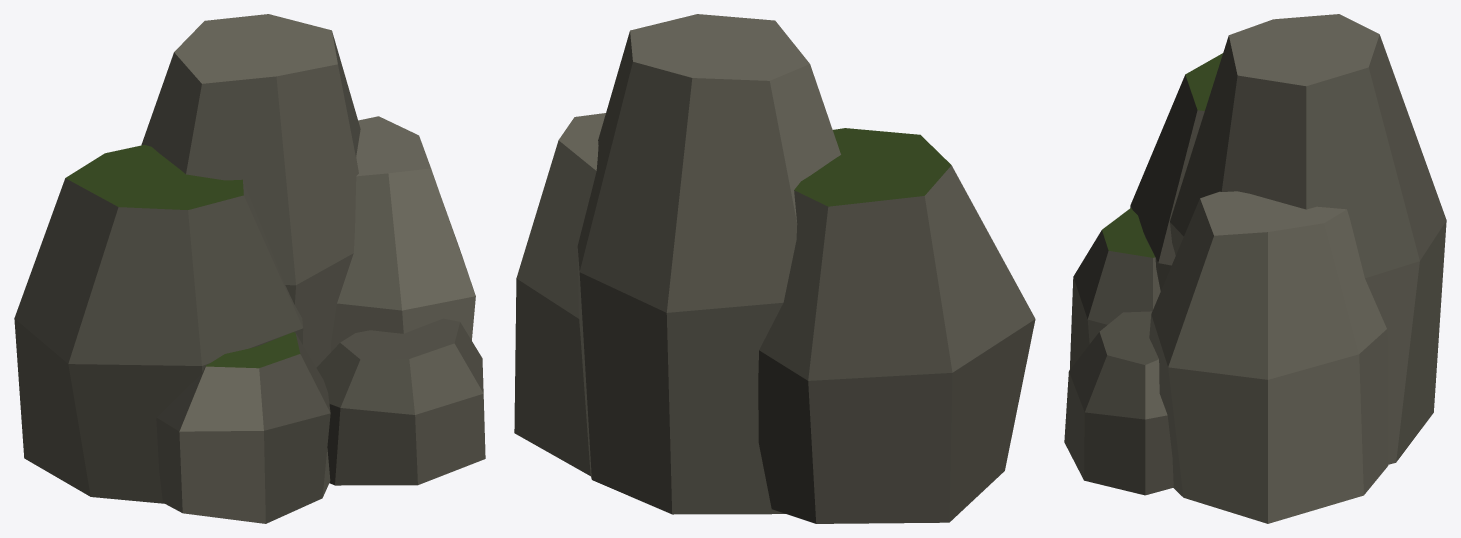
File: waystone-outcrop.glb
The picture shows the model from 3 angles, left to right: view 1: azimuth 30°, elevation 25°; view 2: azimuth 150°, elevation 25°; view 3: azimuth 270°, elevation 25°; orthographic projection. The views are drawn at different scales.
Visible parts, largest first — view 1: Fractured slate buttress, Fractured slate buttress.001, Fractured slate buttress.003, Fractured slate buttress.004, Fractured slate buttress.002; view 2: Fractured slate buttress.001, Fractured slate buttress, Fractured slate buttress.002; view 3: Fractured slate buttress.002, Fractured slate buttress.001, Fractured slate buttress.004, Fractured slate buttress.003, Fractured slate buttress.
Boxes of the visible parts, left/top/right/bottom form: Fractured slate buttress: left=14, top=145, right=303, bottom=503; Fractured slate buttress.001: left=141, top=14, right=360, bottom=367; Fractured slate buttress.003: left=156, top=332, right=330, bottom=523; Fractured slate buttress.004: left=316, top=318, right=485, bottom=485; Fractured slate buttress.002: left=331, top=116, right=475, bottom=351; Fractured slate buttress.001: left=577, top=14, right=840, bottom=514; Fractured slate buttress: left=758, top=128, right=1035, bottom=523; Fractured slate buttress.002: left=514, top=113, right=605, bottom=476; Fractured slate buttress.002: left=1149, top=191, right=1388, bottom=523; Fractured slate buttress.001: left=1170, top=14, right=1446, bottom=464; Fractured slate buttress.004: left=1064, top=311, right=1173, bottom=495; Fractured slate buttress.003: left=1070, top=208, right=1160, bottom=369; Fractured slate buttress: left=1130, top=53, right=1222, bottom=290.
Bounding box in the file's own units: 6.63 × 5.58 × 4.99.
